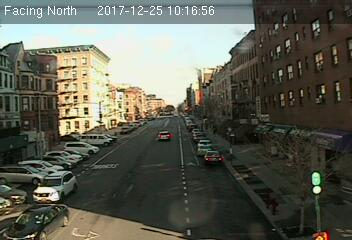car: (4, 202, 70, 238), (31, 170, 79, 202), (203, 150, 223, 163), (158, 130, 172, 141)
